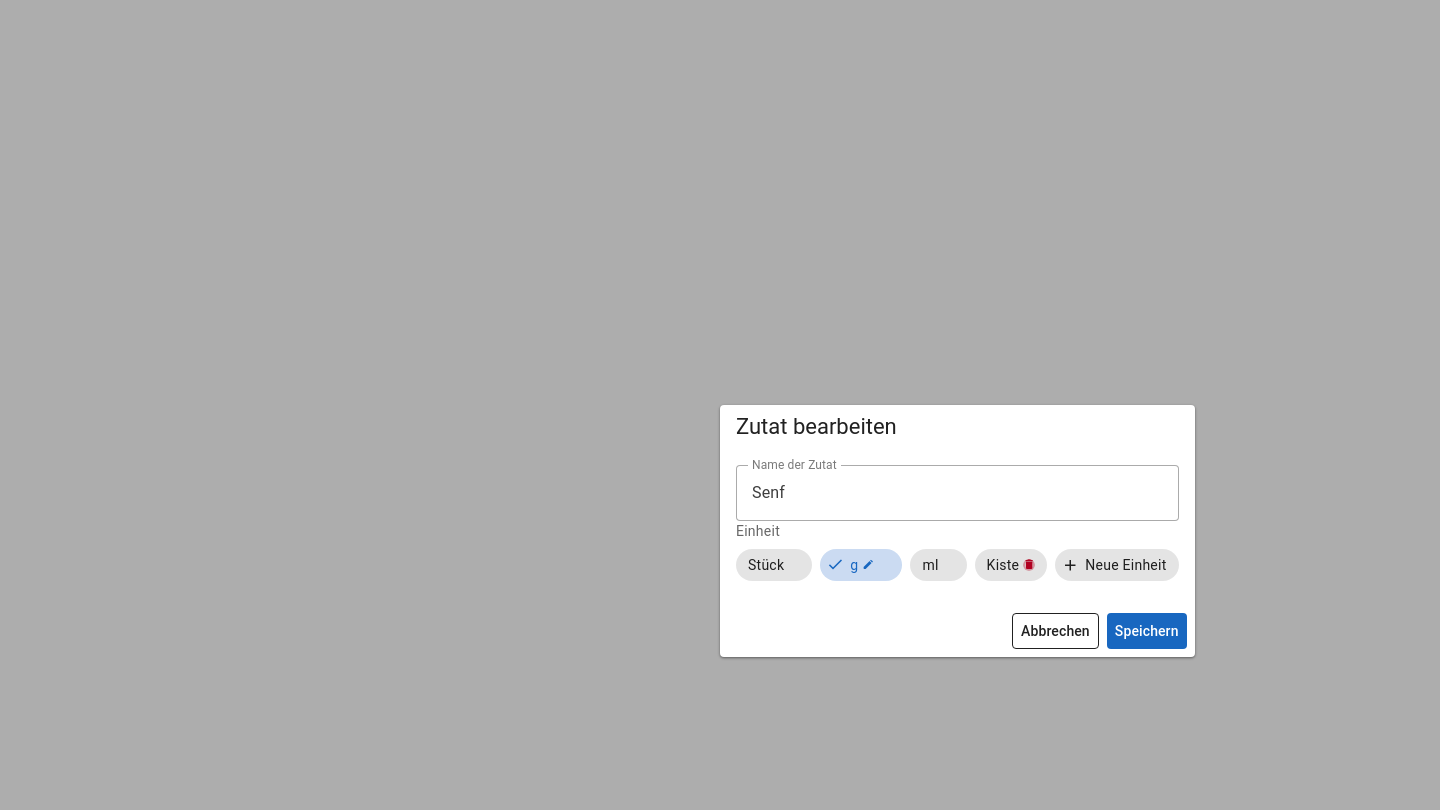
Test case: deleting a unit from the form for an ingredient › asks for confirmation when the admin presses Enter on the trash button of a unit no ingredient uses
Expected: the element with test id "form-dialog" is shown, [720,405,1194,657]
Press Enter in the button without text next to "Kiste", box [1023,559,1035,571]
Click the button without text next to "Kiste".
click(1029, 565)  # box [1023,559,1035,571]
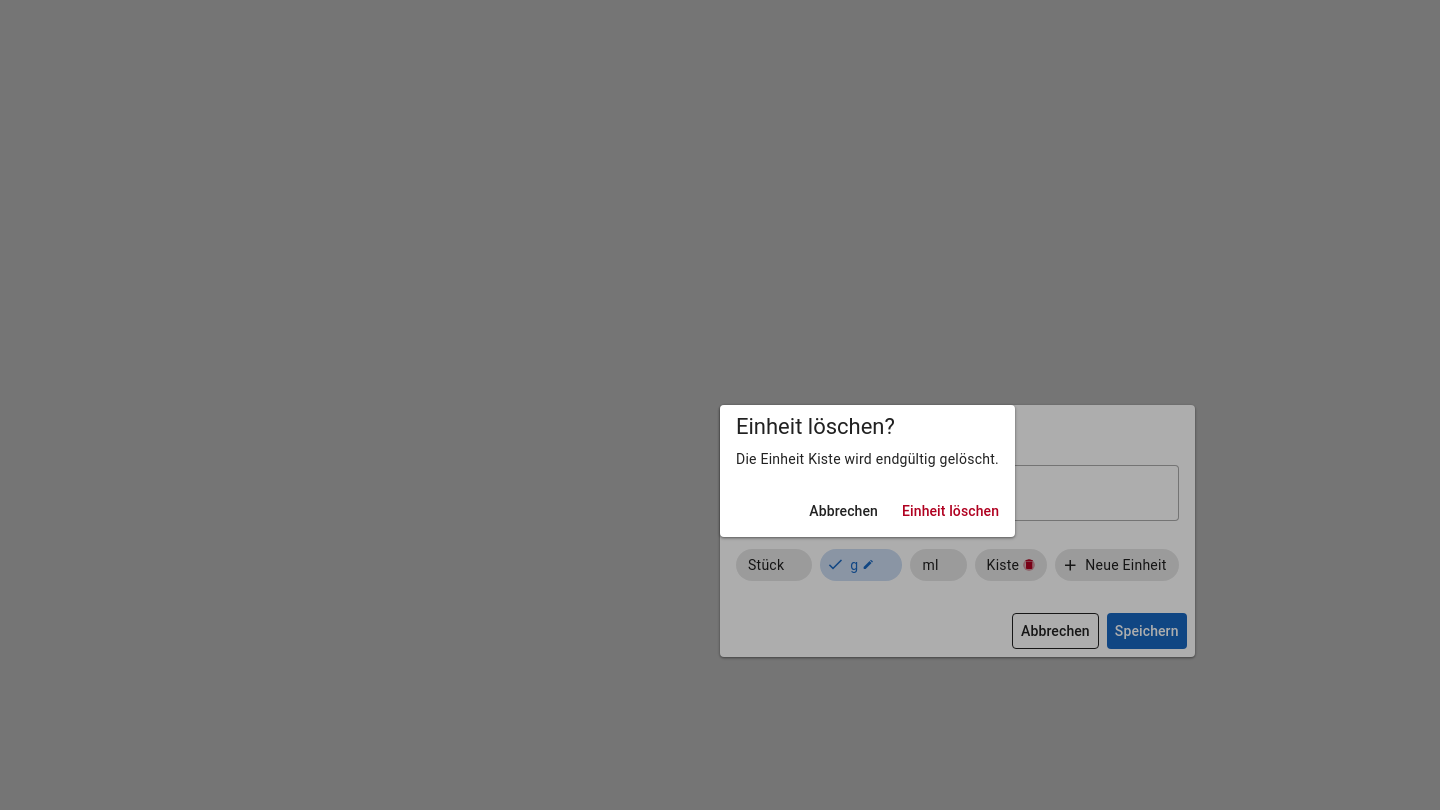
Now the text with test id "confirm-title" reads "Einheit löschen?", box [736,414,895,439]
